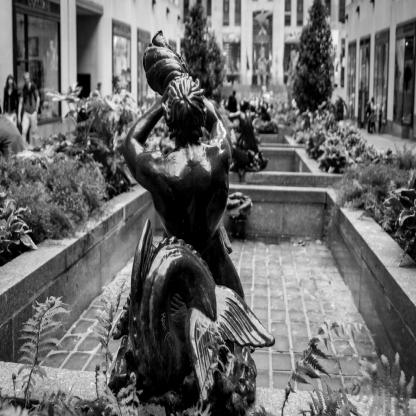Animal: (110, 216, 274, 416)
